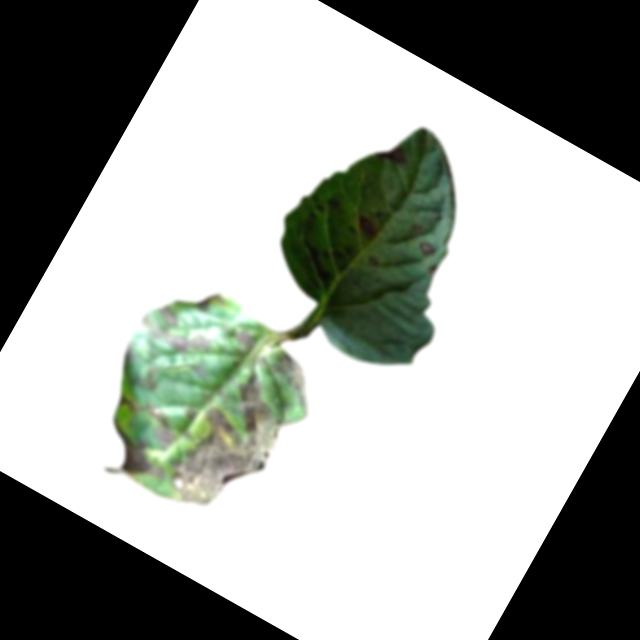Early_blight: (162, 362, 301, 528), (93, 424, 175, 497), (257, 344, 333, 415), (136, 297, 216, 362), (109, 389, 187, 452), (231, 326, 261, 354), (416, 238, 437, 259)
